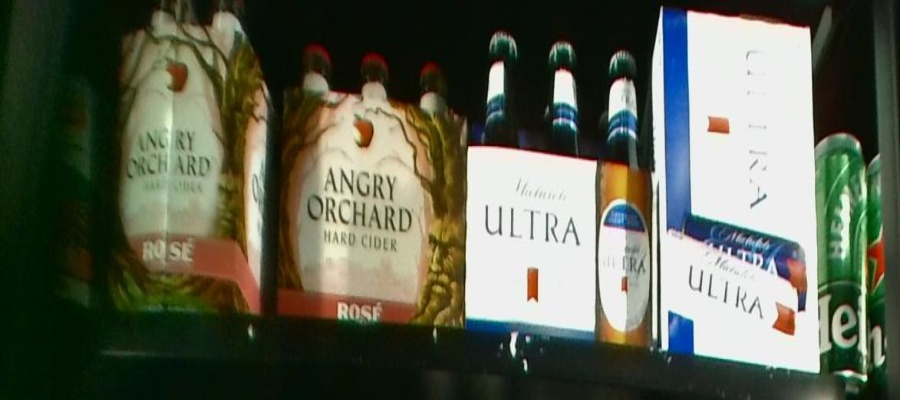bottle: (468, 26, 654, 345), (659, 12, 821, 367), (274, 31, 465, 323), (119, 1, 274, 319)
